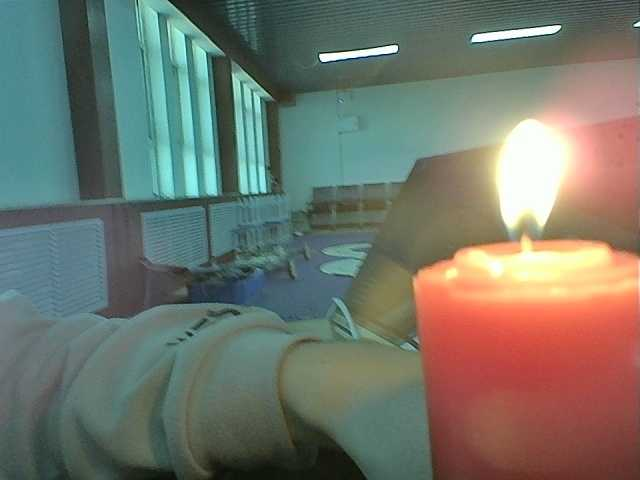candle: (403, 239, 640, 480)
fire: (476, 105, 603, 265)
